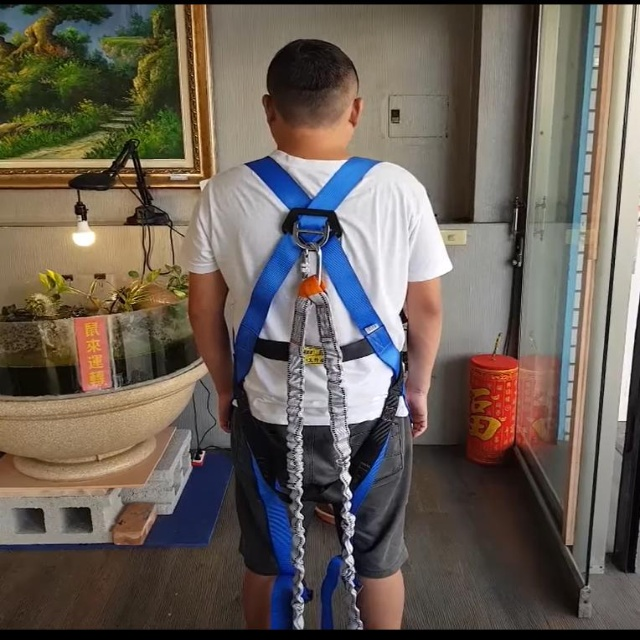Arnes_seguridad: (227, 151, 417, 523)
